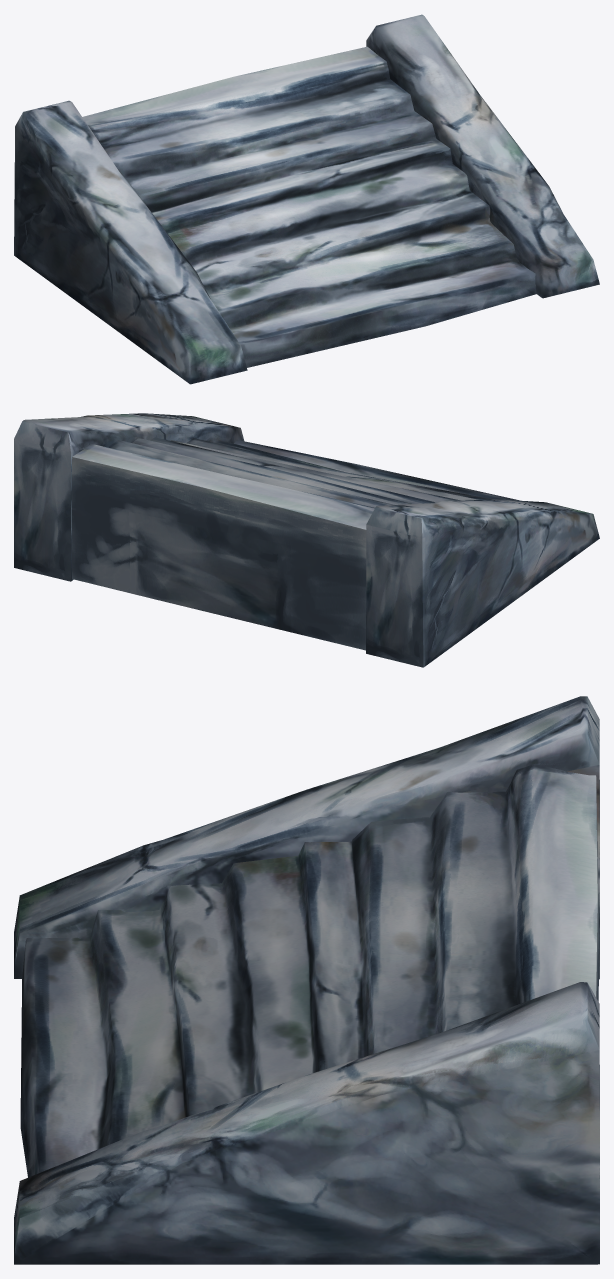
File: STR_StairStoneB.FBX
3 views of the same model, one above another, from view 1: azimuth 30°, elevation 25°; view 2: azimuth 150°, elevation 25°; view 3: azimuth 270°, elevation 25° (orthographic). The views are drawn at different scales.
Visible parts, largest first — view 1: STR_StoneStairB; view 2: STR_StoneStairB; view 3: STR_StoneStairB.
Part boxes in pixels (x1,y1,x2,y2): STR_StoneStairB: (14,14,599,384); STR_StoneStairB: (14,413,599,667); STR_StoneStairB: (14,696,599,1264).
Size of the model in its own units: 893 by 303 by 664.
